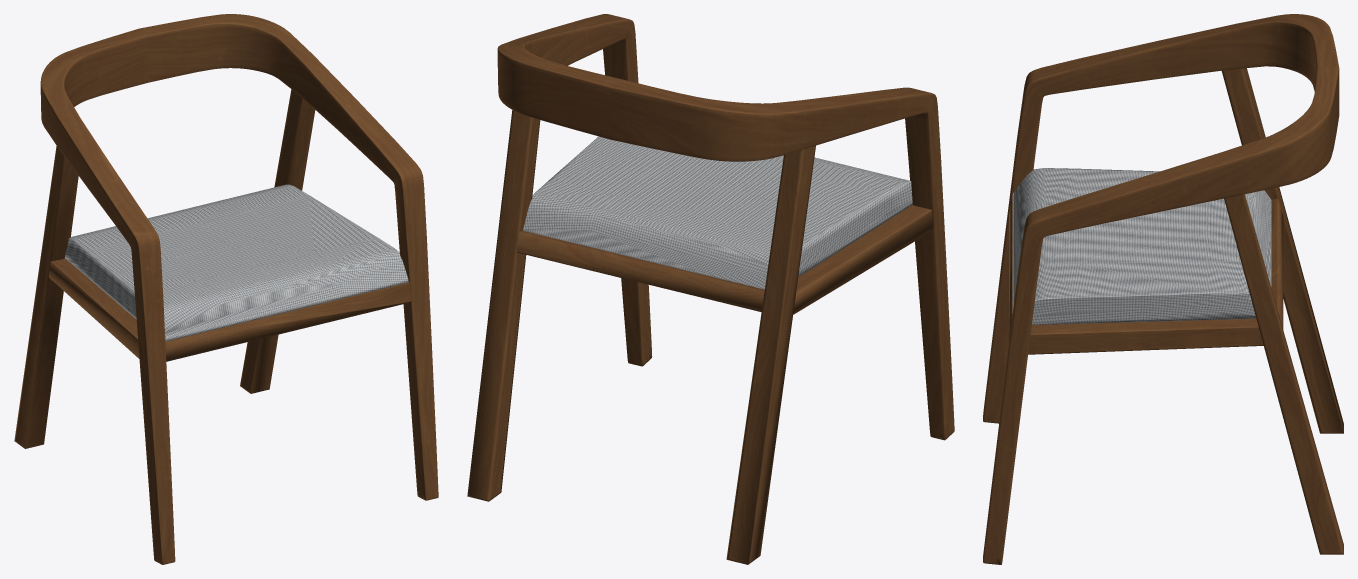
Rendered from twist_guest_chair_opt.glb.
3 renders of one model, left to right at view 1: azimuth 30°, elevation 25°; view 2: azimuth 150°, elevation 25°; view 3: azimuth 270°, elevation 25°, orthographic. The views are drawn at different scales.
Visible parts, largest first — view 1: Twist Guest Chair; view 2: Twist Guest Chair; view 3: Twist Guest Chair.
Boxes of the visible parts, x1,y1,x2,y2 form: Twist Guest Chair: (14,14,438,564); Twist Guest Chair: (467,14,954,564); Twist Guest Chair: (983,14,1343,564).
Bounding box in the file's own units: 0.5929 × 0.7679 × 0.5916.
Materials: 1 (1 with a texture image).
